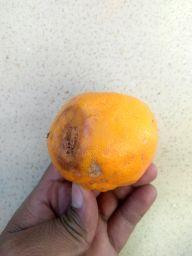Ripe: (45, 93, 157, 189)
